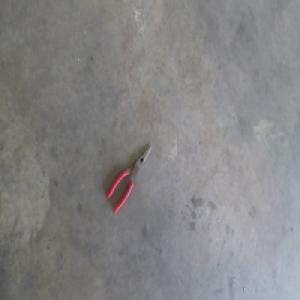Pliers: (106, 142, 152, 213)
